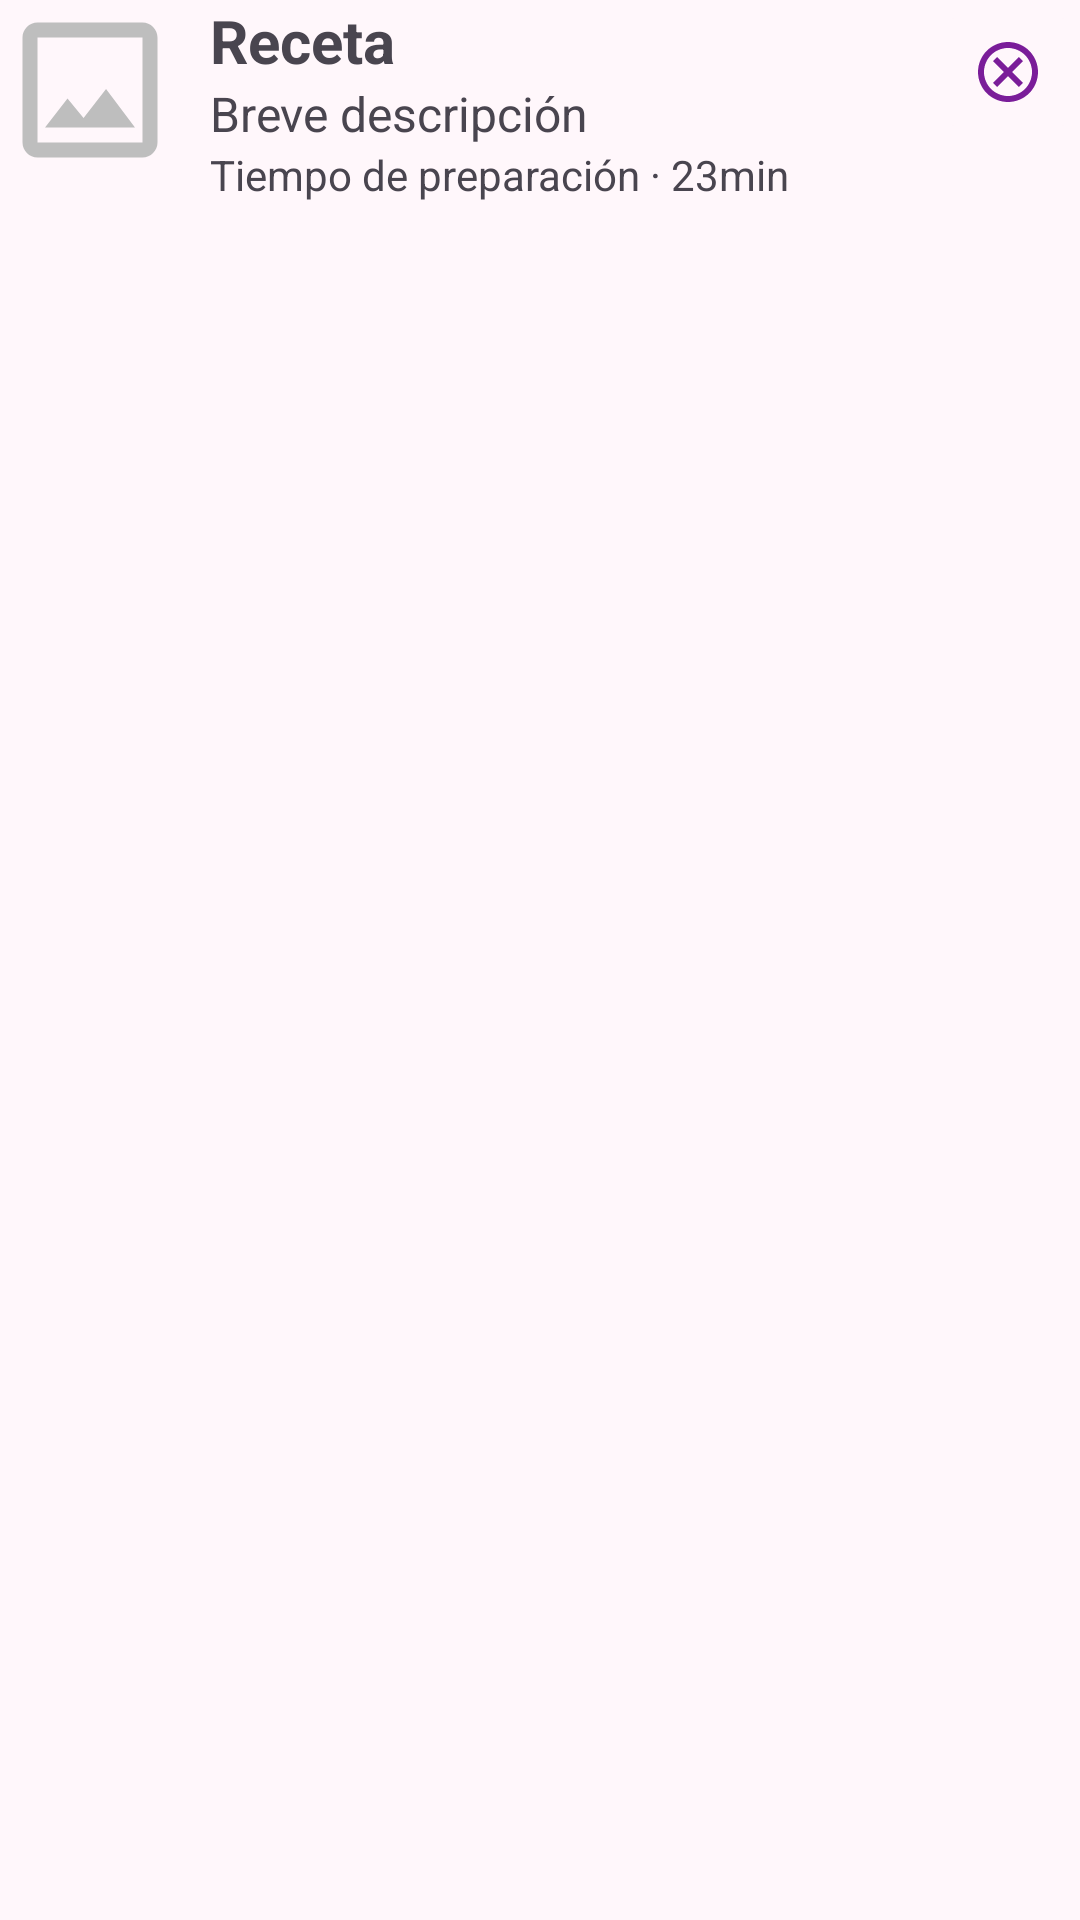

Icon bounding boxes for this 1080px x 1920px phone screenshot, format [x1=x1, y1=y1, x2=x2, y2=y2]:
Eliminar elemento: [x1=978, y1=42, x2=1038, y2=102]
